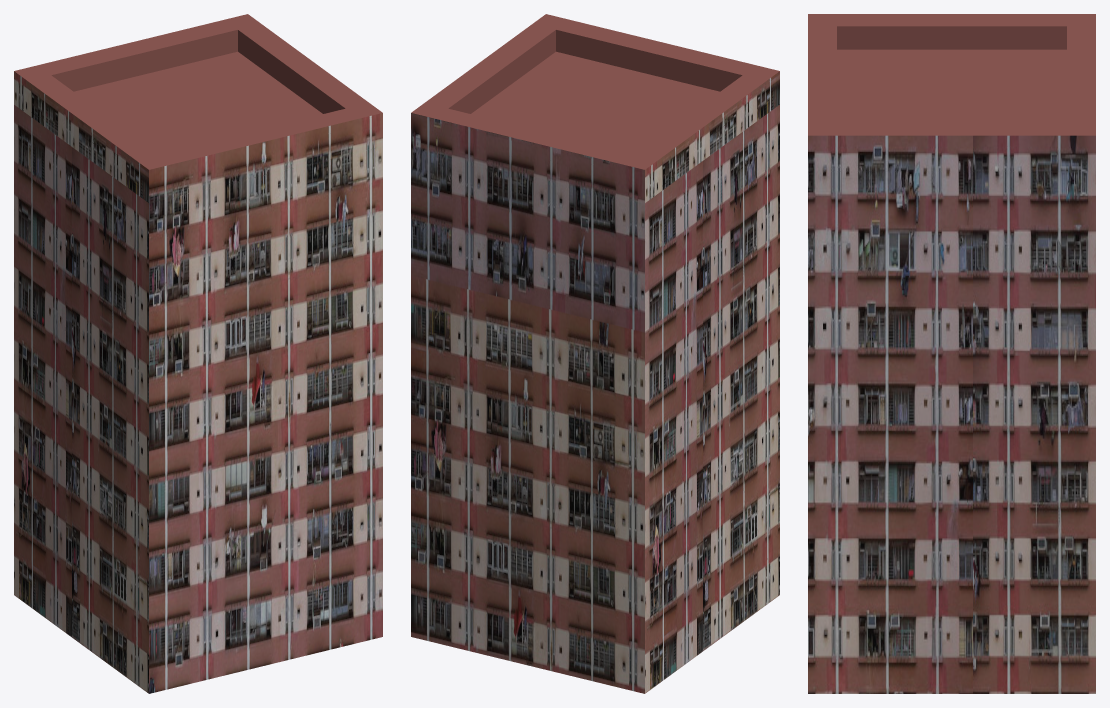
File: Apartments.fbx
3 views of the same model, side by side, from view 1: azimuth 30°, elevation 25°; view 2: azimuth 150°, elevation 25°; view 3: azimuth 270°, elevation 25° (orthographic). The views are drawn at different scales.
Visible parts, largest first — view 1: Cube; view 2: Cube; view 3: Cube.
Boxes of the visible parts, x1,y1,x2,y2 form: Cube: (14,14,382,693); Cube: (411,14,779,693); Cube: (808,14,1095,693).
Bounding box in the file's own units: 200 × 428 × 200.
2 materials, 1 textured.
